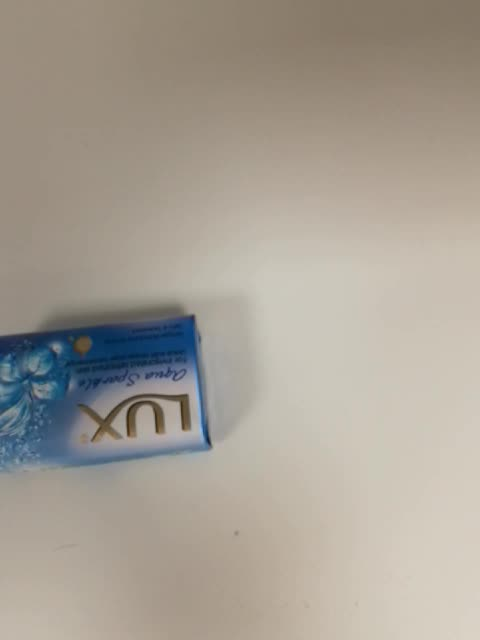soap: (1, 310, 213, 477)
